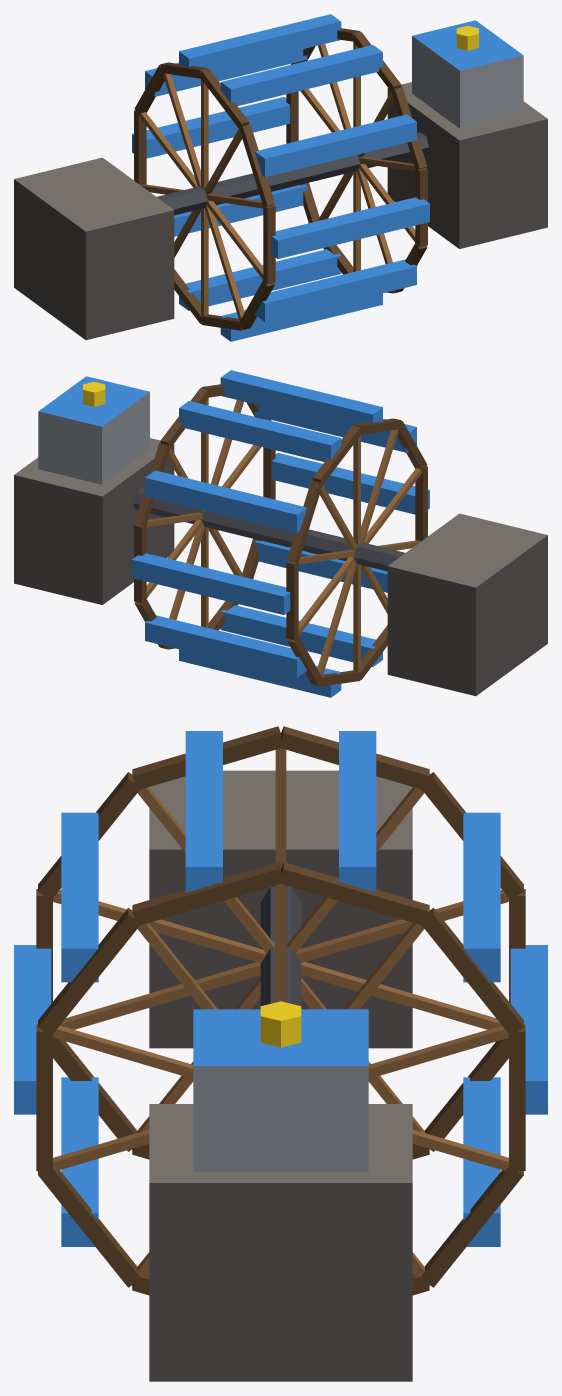
Rendered from water_wheel.glb.
3 views of the same model, one above another, from view 1: azimuth 30°, elevation 25°; view 2: azimuth 150°, elevation 25°; view 3: azimuth 270°, elevation 25° (orthographic). The views are drawn at different scales.
Visible parts, largest first — view 1: water_wheel; view 2: water_wheel; view 3: water_wheel.
Boxes of the visible parts, <box> form: water_wheel: <box>14,14,547,341</box>; water_wheel: <box>14,370,547,697</box>; water_wheel: <box>14,726,547,1381</box>.
Size of the model in its own units: 3.34 by 1.75 by 1.83.
